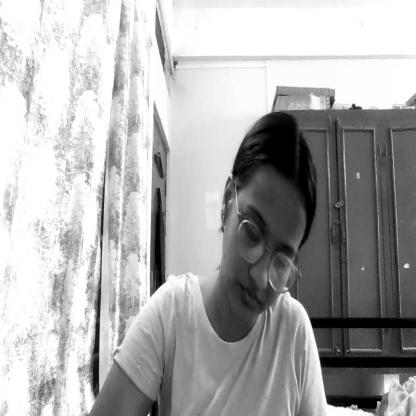Distracted: (221, 130, 302, 330)
